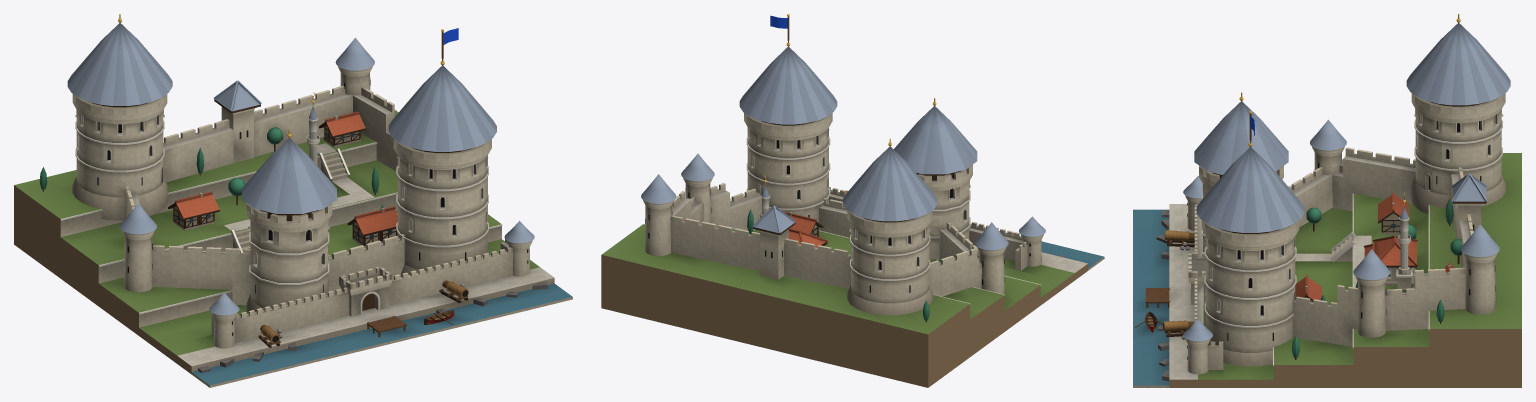
File: lm_rumelihisari.glb
The picture shows the model from 3 angles, left to right: view 1: azimuth 30°, elevation 25°; view 2: azimuth 150°, elevation 25°; view 3: azimuth 270°, elevation 25°; orthographic projection. The views are drawn at different scales.
Parts seen in each view (by area): view 1: lm_rumelihisari; view 2: lm_rumelihisari; view 3: lm_rumelihisari.
Part boxes in pixels (x1,y1,x2,y2): lm_rumelihisari: [14, 14, 572, 387]; lm_rumelihisari: [601, 14, 1104, 387]; lm_rumelihisari: [1133, 14, 1521, 387].
Size of the model in its own units: 2.3 by 1.49 by 2.15.
Materials: 1 (1 with a texture image).
